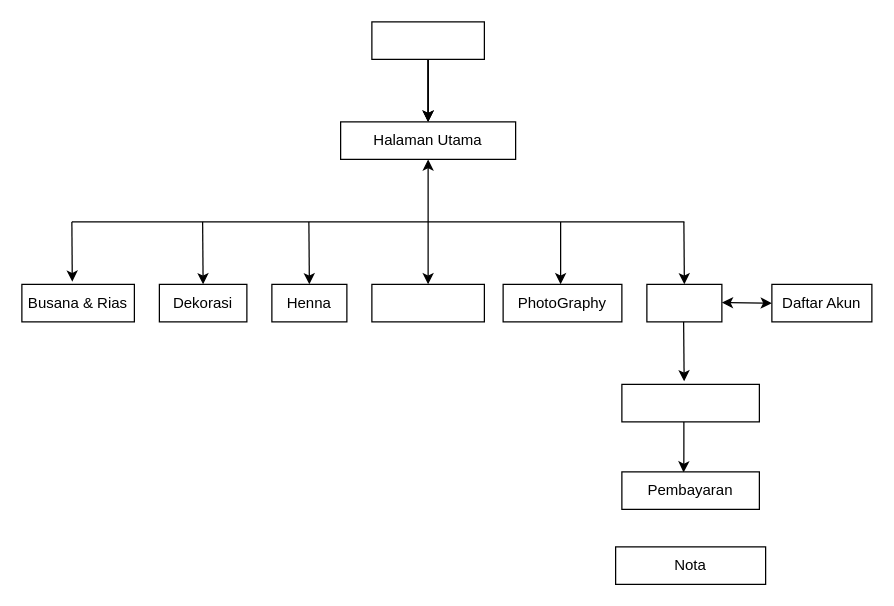
The diagram is 894 pixels wide and 606 high, and some of its shapes have lost their labels. The shapes that lost their labels are listed below. From the top down, each one's centre as x and y in pixels, then its label:
At [427,40]: "USER".
At [427,302]: "Make Up Artis".
At [684,302]: "Login".
At [690,402]: "Keranjang Belanja".
